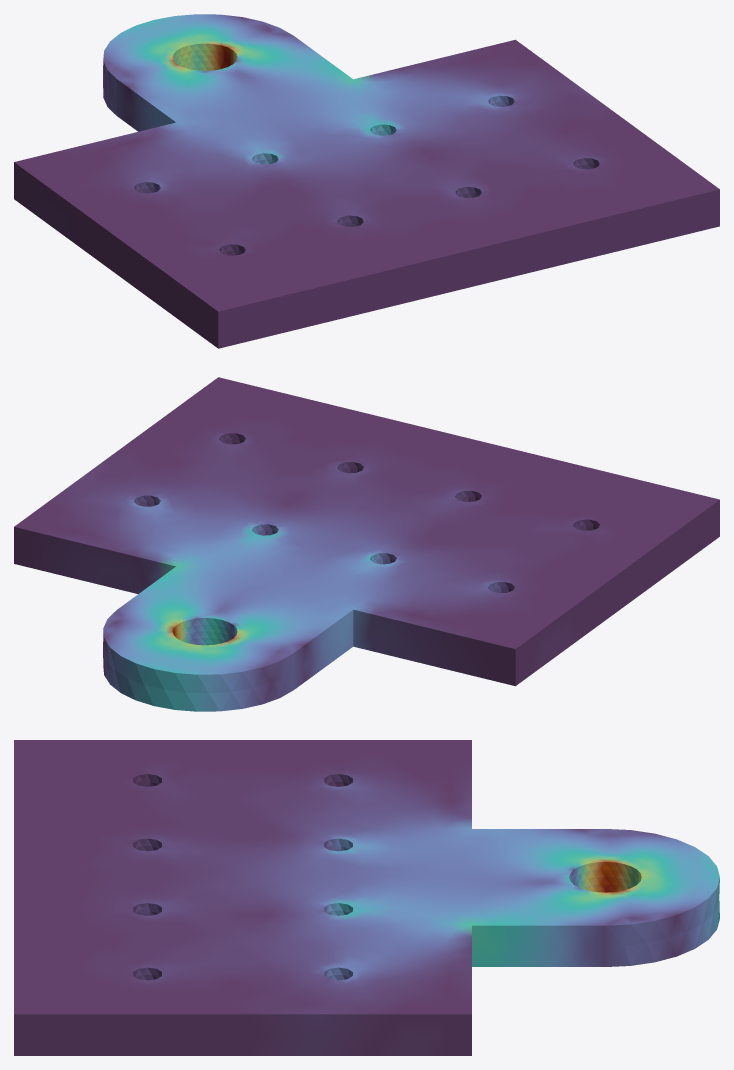
The model's file is P1_wing_root_lug.glb.
3 renders of one model, top to bottom at view 1: azimuth 30°, elevation 25°; view 2: azimuth 150°, elevation 25°; view 3: azimuth 270°, elevation 25°, orthographic. The views are drawn at different scales.
Visible parts, largest first — view 1: geometry_0; view 2: geometry_0; view 3: geometry_0.
Boxes of the visible parts, bbox=[...] form: geometry_0: bbox=[14, 14, 719, 348]; geometry_0: bbox=[14, 377, 719, 711]; geometry_0: bbox=[14, 740, 719, 1055].
Size of the model in its own units: 0.17 by 0.012 by 0.185.
